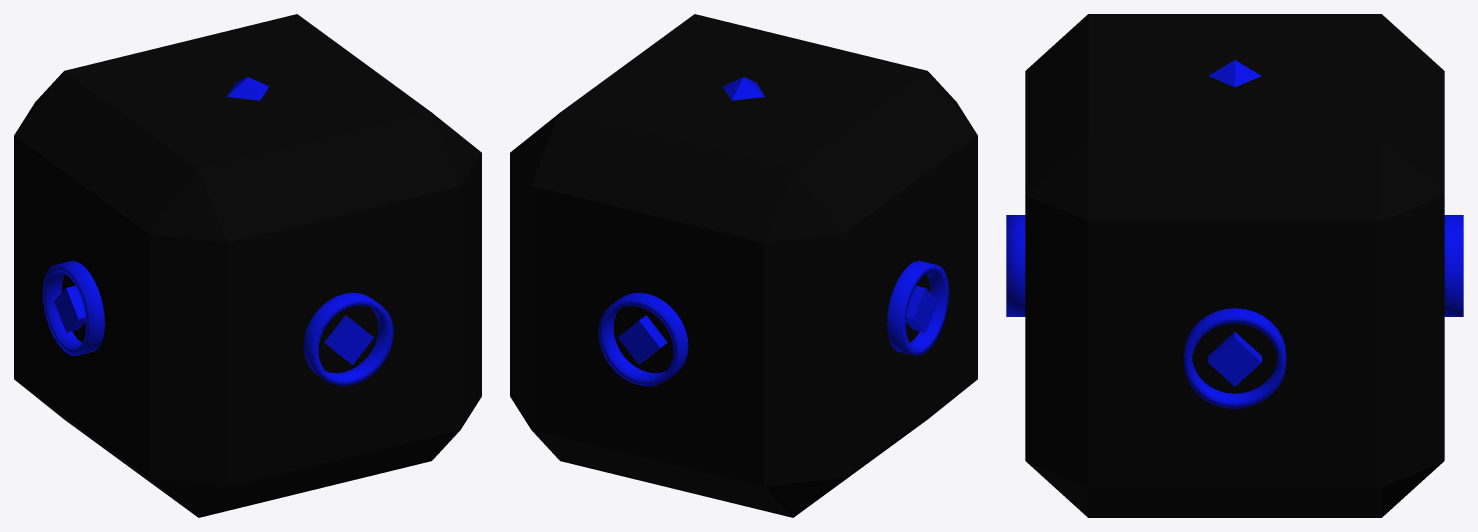
File: mdl_zesty_powerbox.gltf
3 renders of one model, left to right at view 1: azimuth 30°, elevation 25°; view 2: azimuth 150°, elevation 25°; view 3: azimuth 270°, elevation 25°, orthographic. The views are drawn at different scales.
Visible parts, largest first — view 1: mdl_zesty_powerlinkoff; view 2: mdl_zesty_powerlinkoff; view 3: mdl_zesty_powerlinkoff.
Part boxes in pixels (x1,y1,x2,y2): mdl_zesty_powerlinkoff: (14, 14, 481, 517); mdl_zesty_powerlinkoff: (510, 14, 977, 517); mdl_zesty_powerlinkoff: (1006, 14, 1463, 517).
Bounding box in the file's own units: 0.1091 × 0.1043 × 0.1091.
